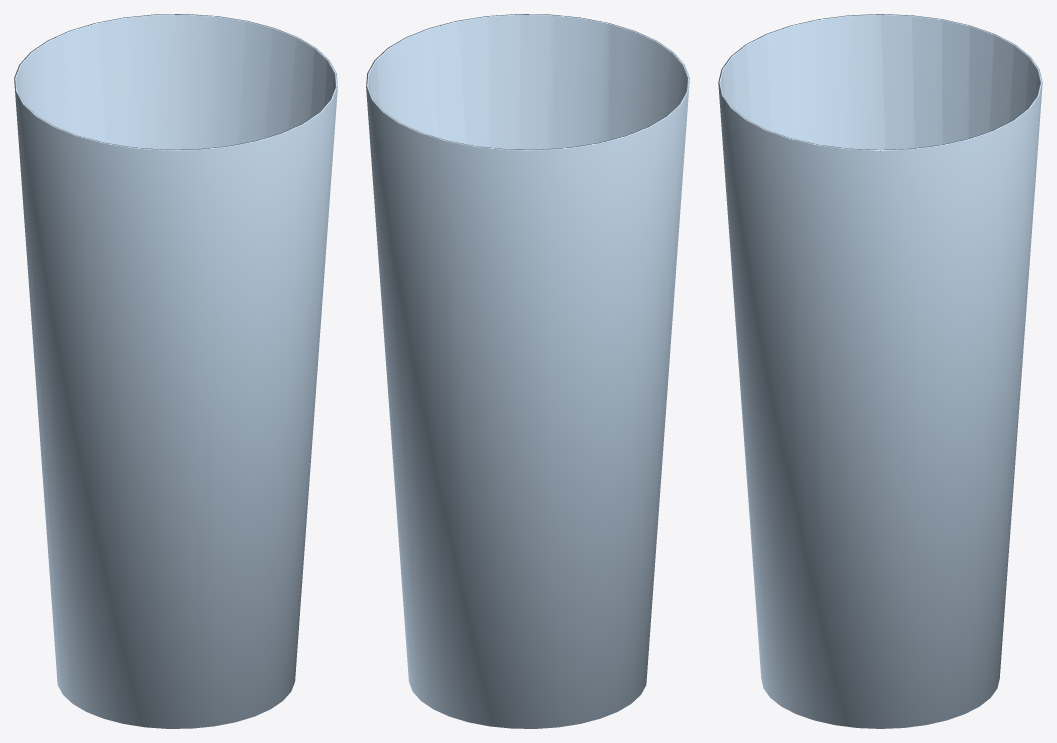
The model's file is metal cup.glb.
3 views of the same model, side by side, from view 1: azimuth 30°, elevation 25°; view 2: azimuth 150°, elevation 25°; view 3: azimuth 270°, elevation 25° (orthographic).
Parts seen in each view (by area): view 1: Cylinder; view 2: Cylinder; view 3: Cylinder.
Part boxes in pixels (x1=…): Cylinder: x1=14, y1=14, x2=337, y2=728; Cylinder: x1=366, y1=14, x2=689, y2=728; Cylinder: x1=718, y1=14, x2=1042, y2=728.
Size of the model in its own units: 2.13 by 4.31 by 2.13.
